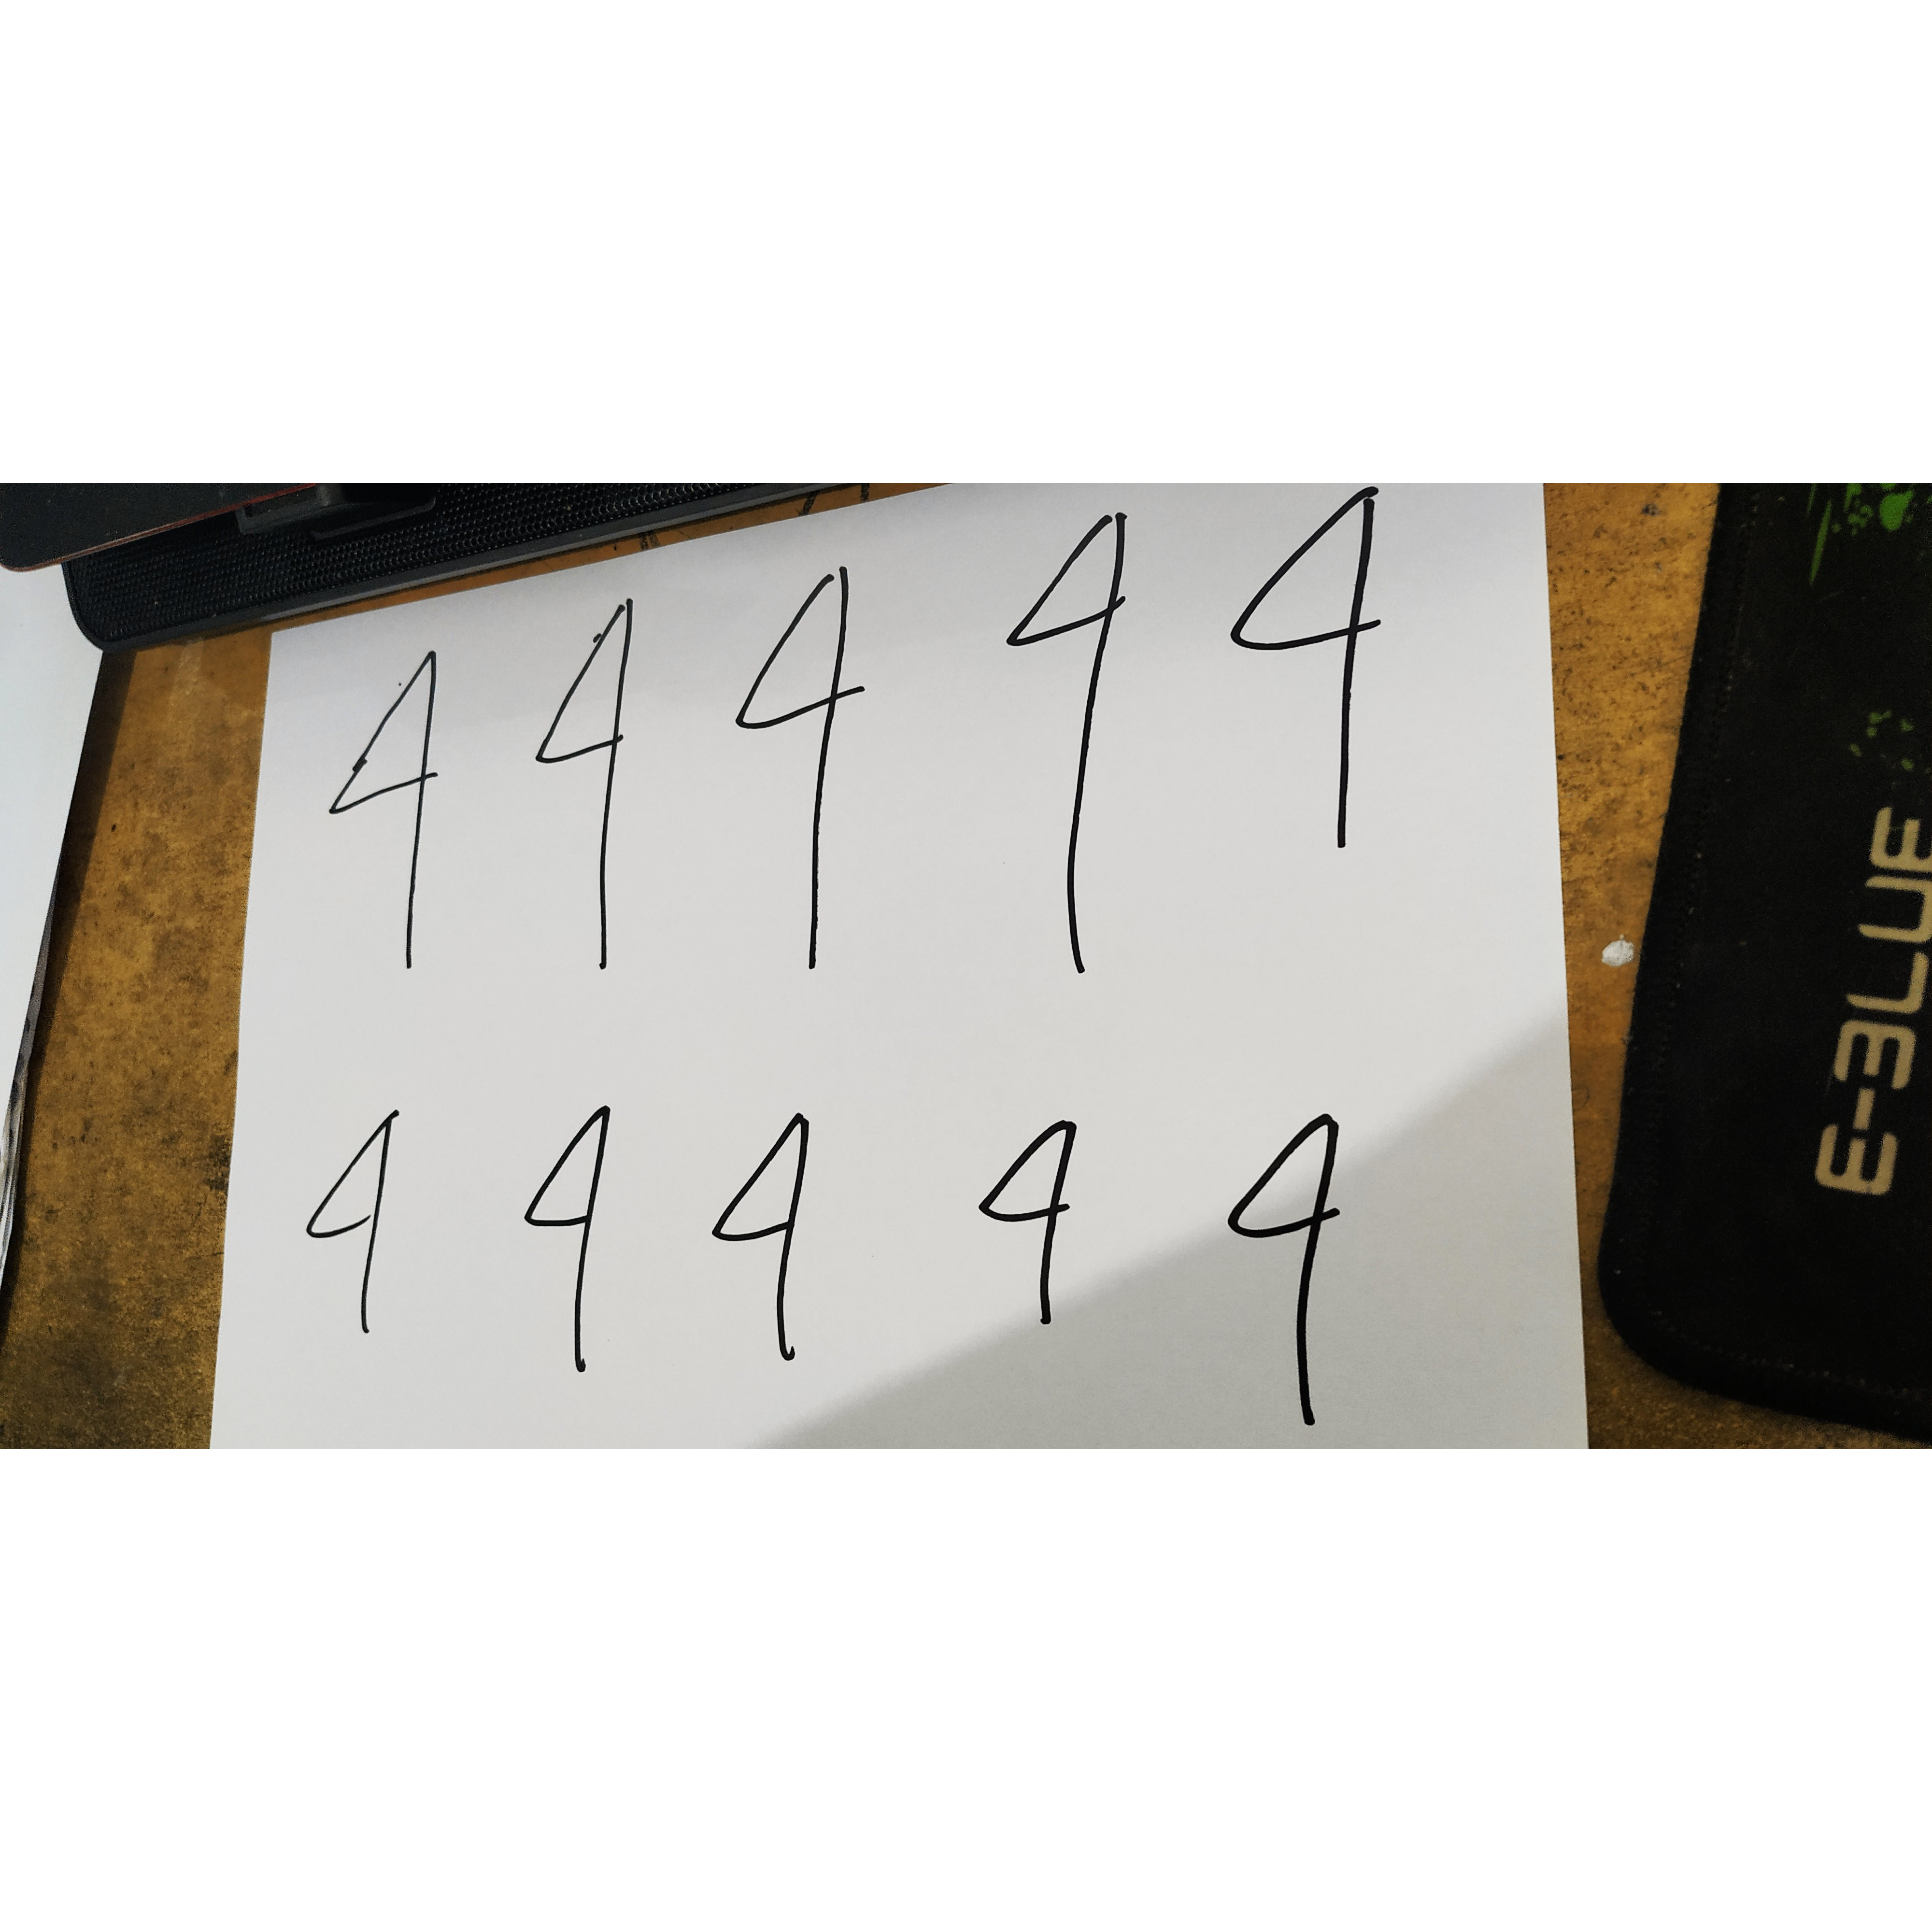num4: (994, 502, 1185, 1004), (719, 558, 906, 989), (1223, 489, 1424, 867), (1204, 1094, 1395, 1438), (297, 636, 471, 997), (526, 592, 675, 989), (282, 1073, 440, 1367), (497, 1088, 629, 1396), (707, 1094, 832, 1379), (965, 1113, 1106, 1344)
